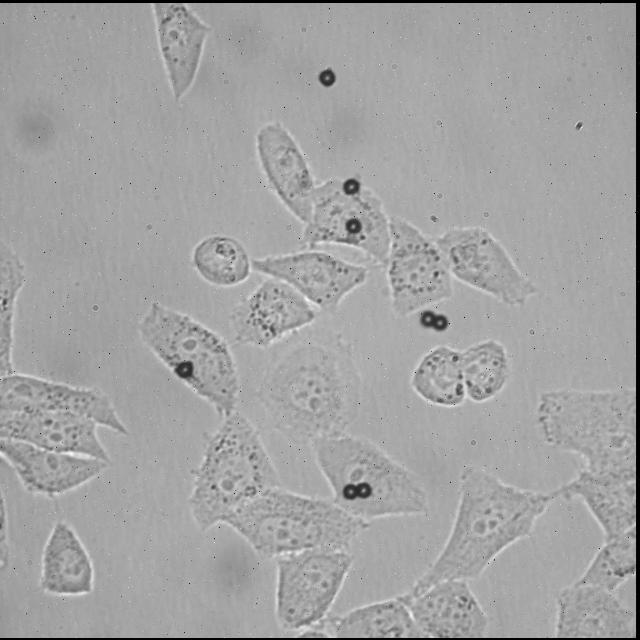microbeads: (432, 307, 450, 335), (175, 359, 199, 378), (320, 66, 338, 88), (340, 218, 362, 235), (356, 479, 374, 499), (344, 178, 364, 195), (342, 484, 358, 501)
